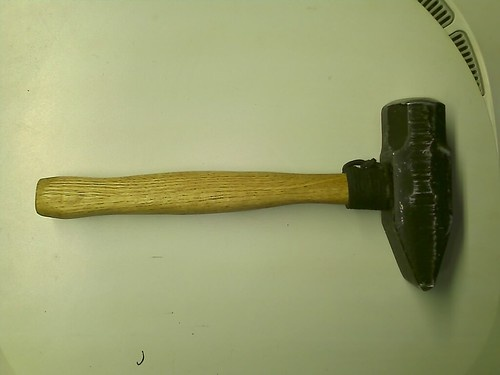hammer: (34, 95, 453, 292)
